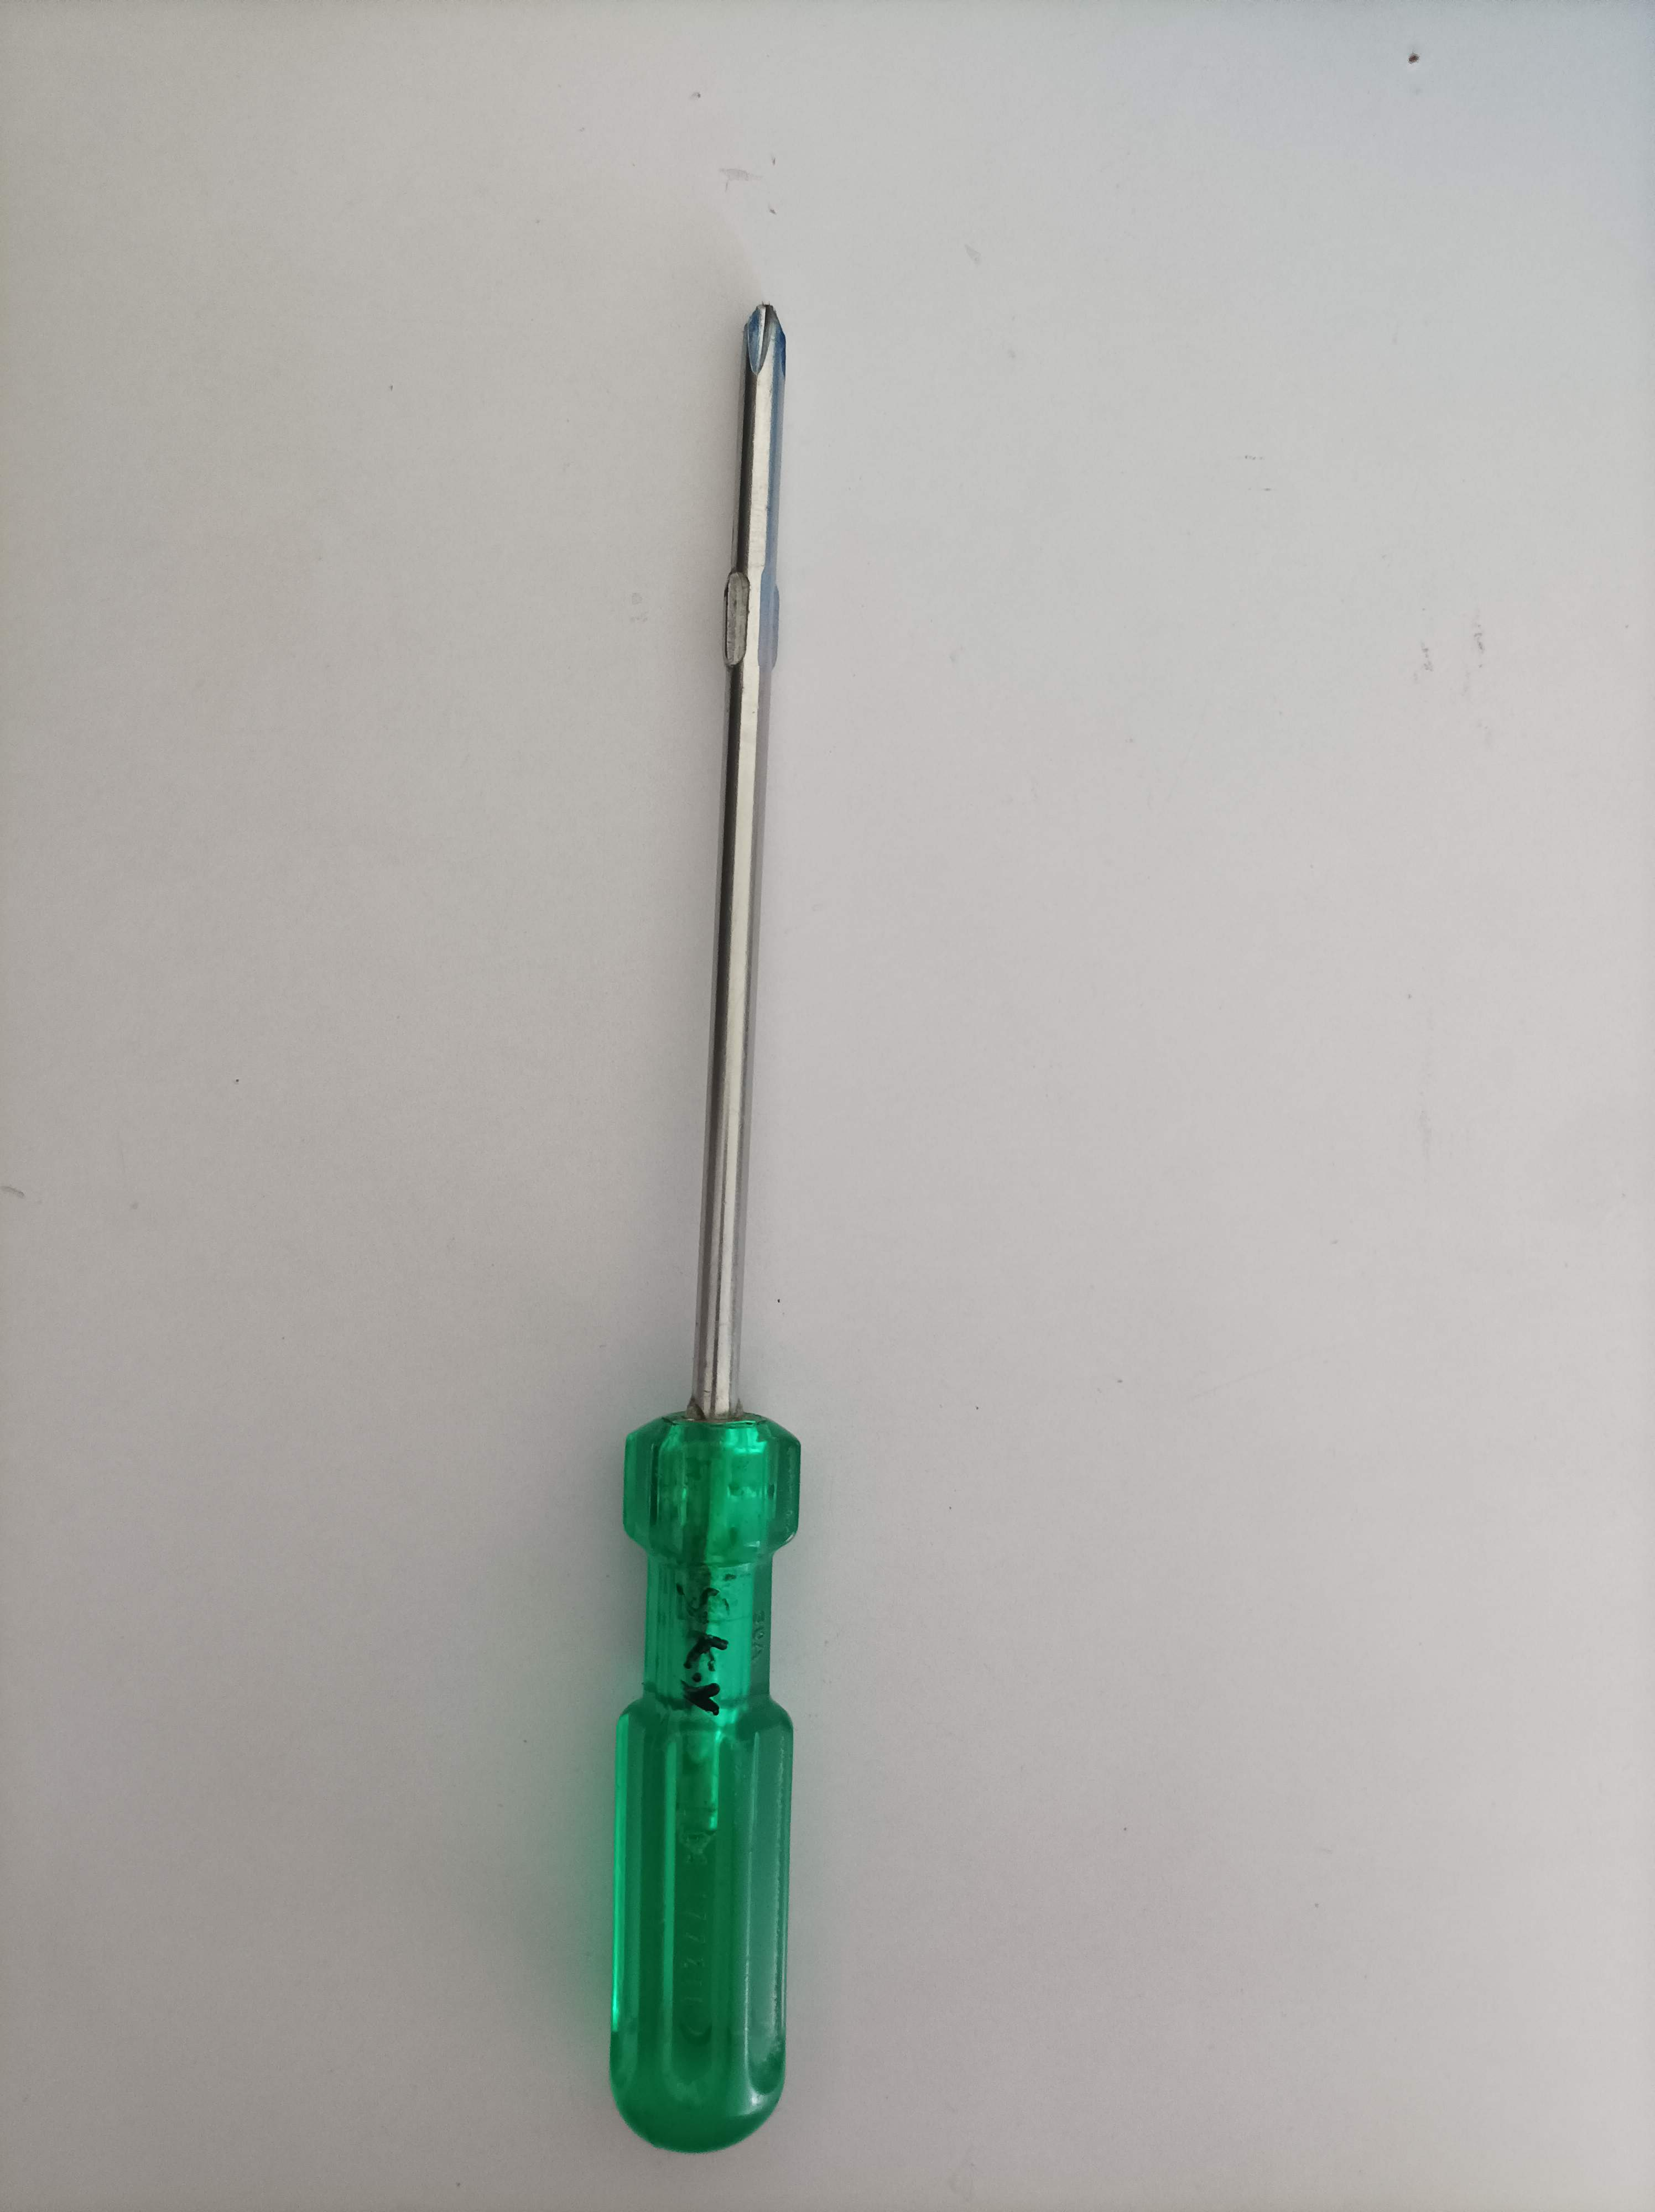screwdriver: (588, 281, 829, 2169)
